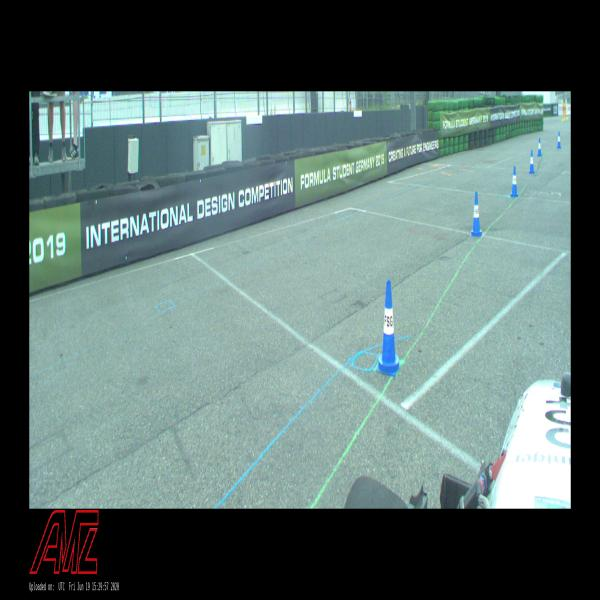blue_cone: (376, 280, 401, 375), (472, 193, 482, 236), (510, 167, 518, 196), (528, 150, 535, 174), (537, 137, 542, 156), (557, 132, 561, 148)
